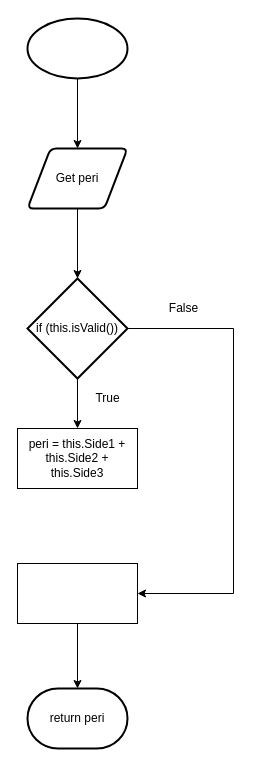
Image size: 259x766. Some labels were removed from this diagram. Each missing label, with the centre of its shape:
"peri = -1" goes at point 77,593.
"Start" goes at point 77,48.
